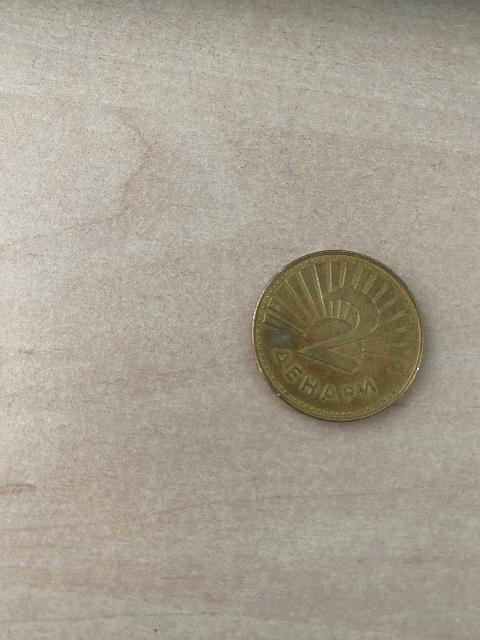2_coin: (253, 251, 423, 421)
